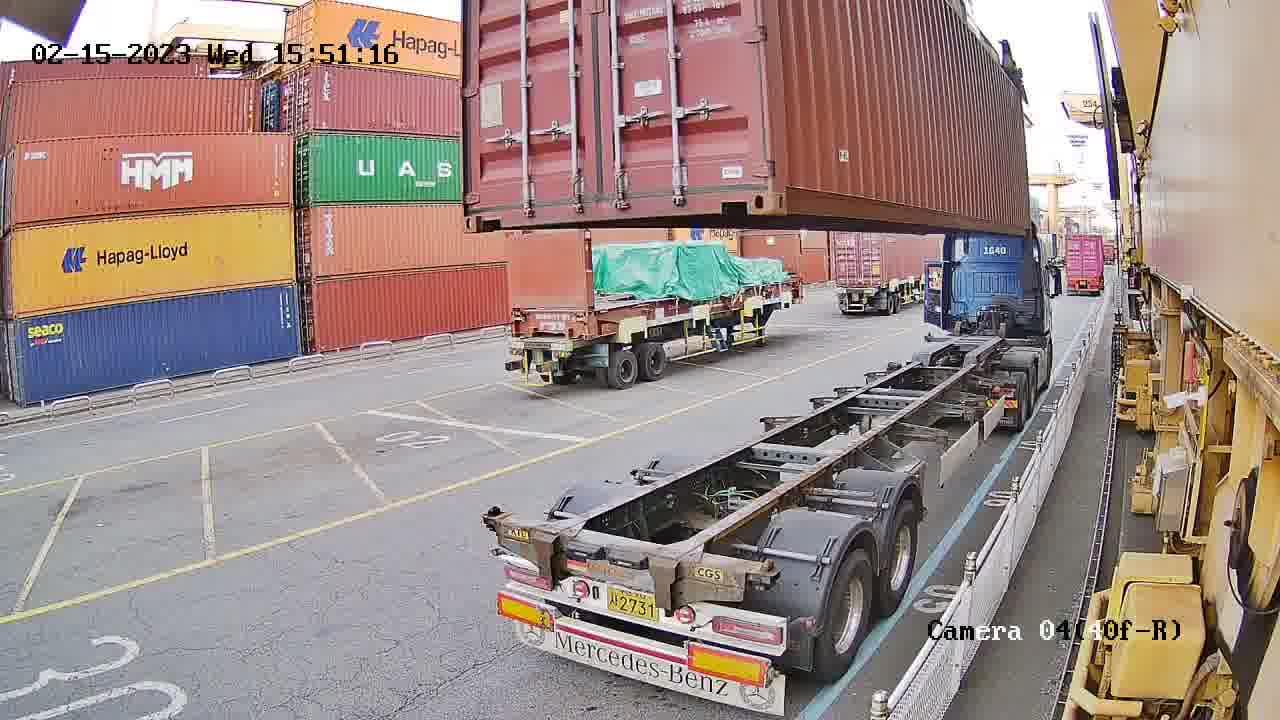Chassis: (489, 515, 774, 608)
Cone: (749, 556, 782, 592), (483, 501, 502, 540)
Hole_L: (771, 158, 827, 217), (461, 181, 520, 232)
Hole_R: (710, 164, 772, 214)
Tire: (821, 549, 875, 678), (876, 504, 920, 613)
